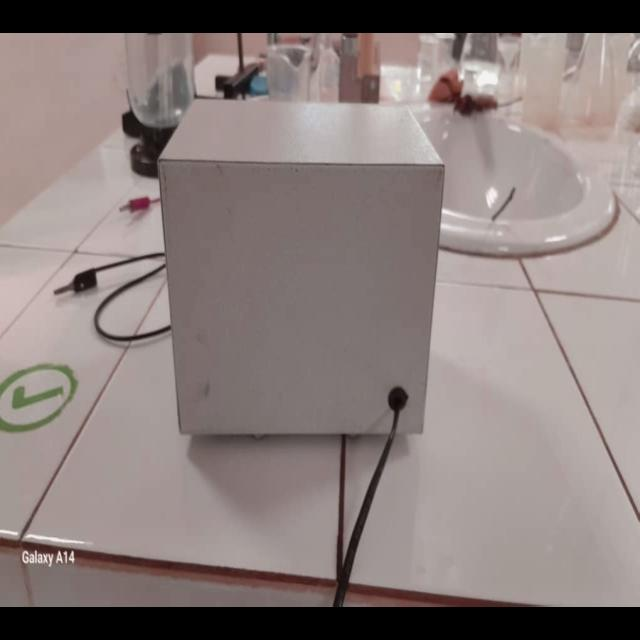Power Supply: (146, 119, 447, 456)
